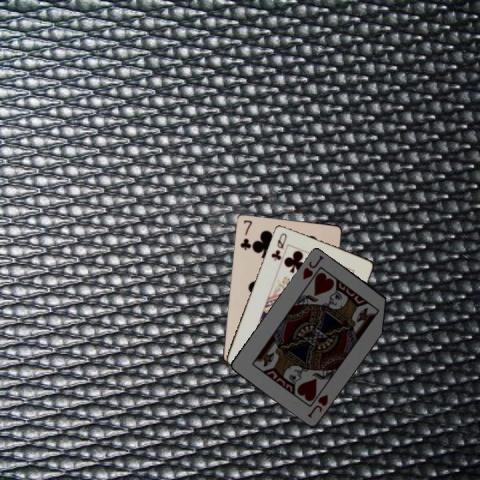7c: (237, 217, 253, 251)
Jh: (304, 386, 329, 419), (300, 252, 326, 281)
Qc: (268, 229, 288, 262)
